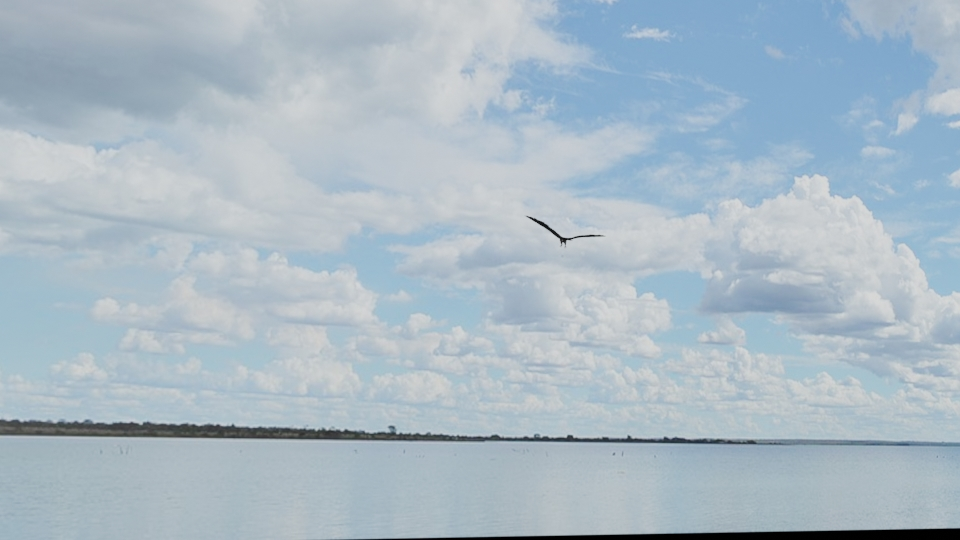bird: (526, 215, 604, 247)
